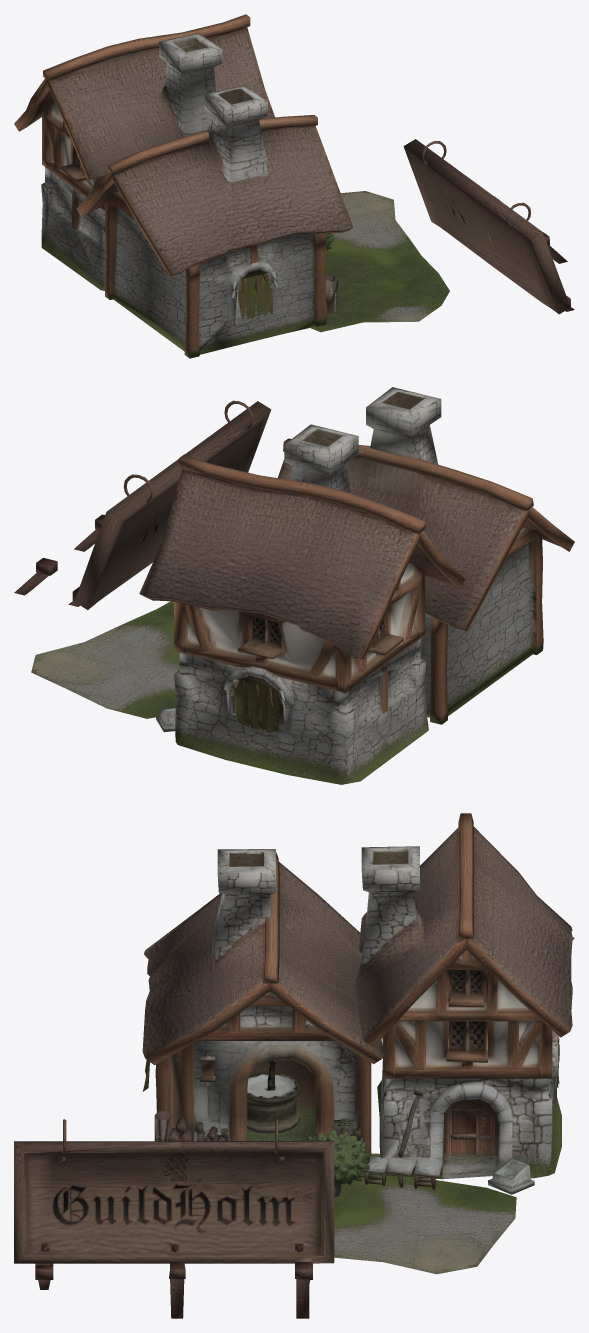
File: forge.glb
3 renders of one model, top to bottom at view 1: azimuth 30°, elevation 25°; view 2: azimuth 150°, elevation 25°; view 3: azimuth 270°, elevation 25°, orthographic. The views are drawn at different scales.
Visible parts, largest first — view 1: tripo_node_d86c20d4-c31c-49aa-8d72-b3b5a8120e8b; view 2: tripo_node_d86c20d4-c31c-49aa-8d72-b3b5a8120e8b; view 3: tripo_node_d86c20d4-c31c-49aa-8d72-b3b5a8120e8b.
Boxes of the visible parts, x1,y1,x2,y2 form: tripo_node_d86c20d4-c31c-49aa-8d72-b3b5a8120e8b: (14, 14, 574, 358); tripo_node_d86c20d4-c31c-49aa-8d72-b3b5a8120e8b: (14, 387, 574, 784); tripo_node_d86c20d4-c31c-49aa-8d72-b3b5a8120e8b: (14, 813, 574, 1318).
Bounding box in the file's own units: 9.71 × 5 × 8.95.
Materials: 1 (1 with a texture image).
